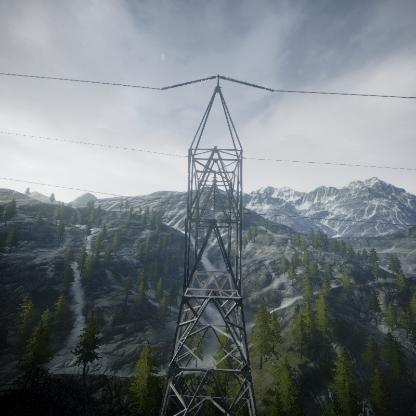tower: (156, 69, 278, 414)
